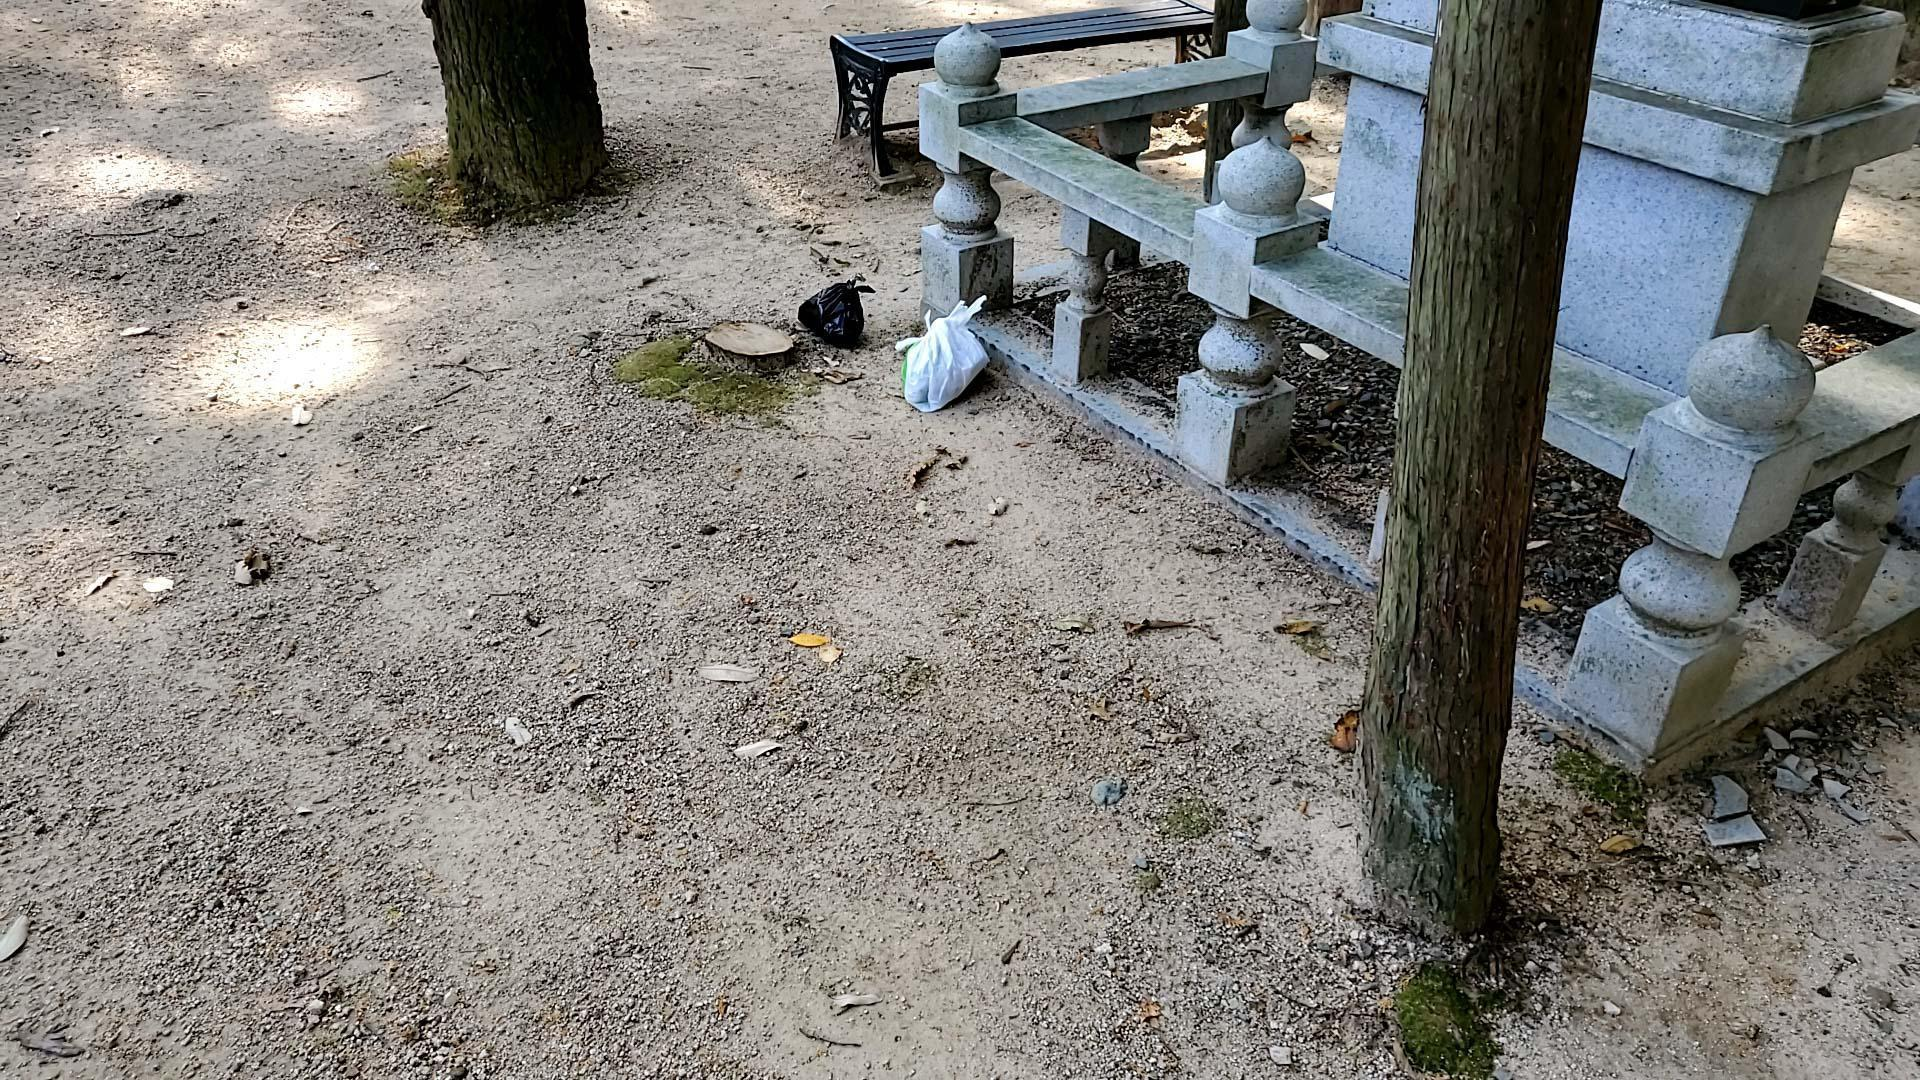black_bag: (789, 269, 877, 352)
white_bag: (891, 291, 997, 415)
